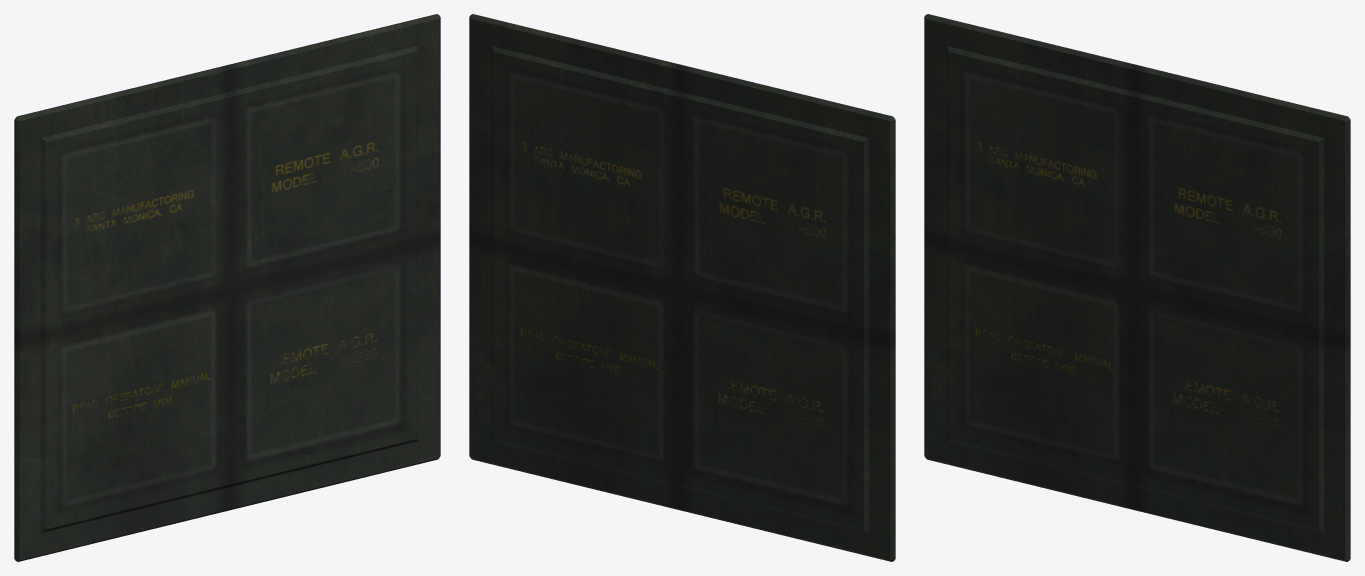
Rendered from t6_wpn_drop_box_panel_LOD0.obj.
The picture shows the model from 3 angles, left to right: view 1: azimuth 30°, elevation 25°; view 2: azimuth 150°, elevation 25°; view 3: azimuth 330°, elevation 25°; orthographic projection.
Parts seen in each view (by area): view 1: mtl_t6_wpn_drop_box; view 2: mtl_t6_wpn_drop_box; view 3: mtl_t6_wpn_drop_box.
Boxes of the visible parts, bbox=[...] form: mtl_t6_wpn_drop_box: bbox=[14, 14, 440, 561]; mtl_t6_wpn_drop_box: bbox=[469, 14, 895, 561]; mtl_t6_wpn_drop_box: bbox=[924, 14, 1350, 561].
Bounding box in the file's own units: 120 × 120 × 3.59.
